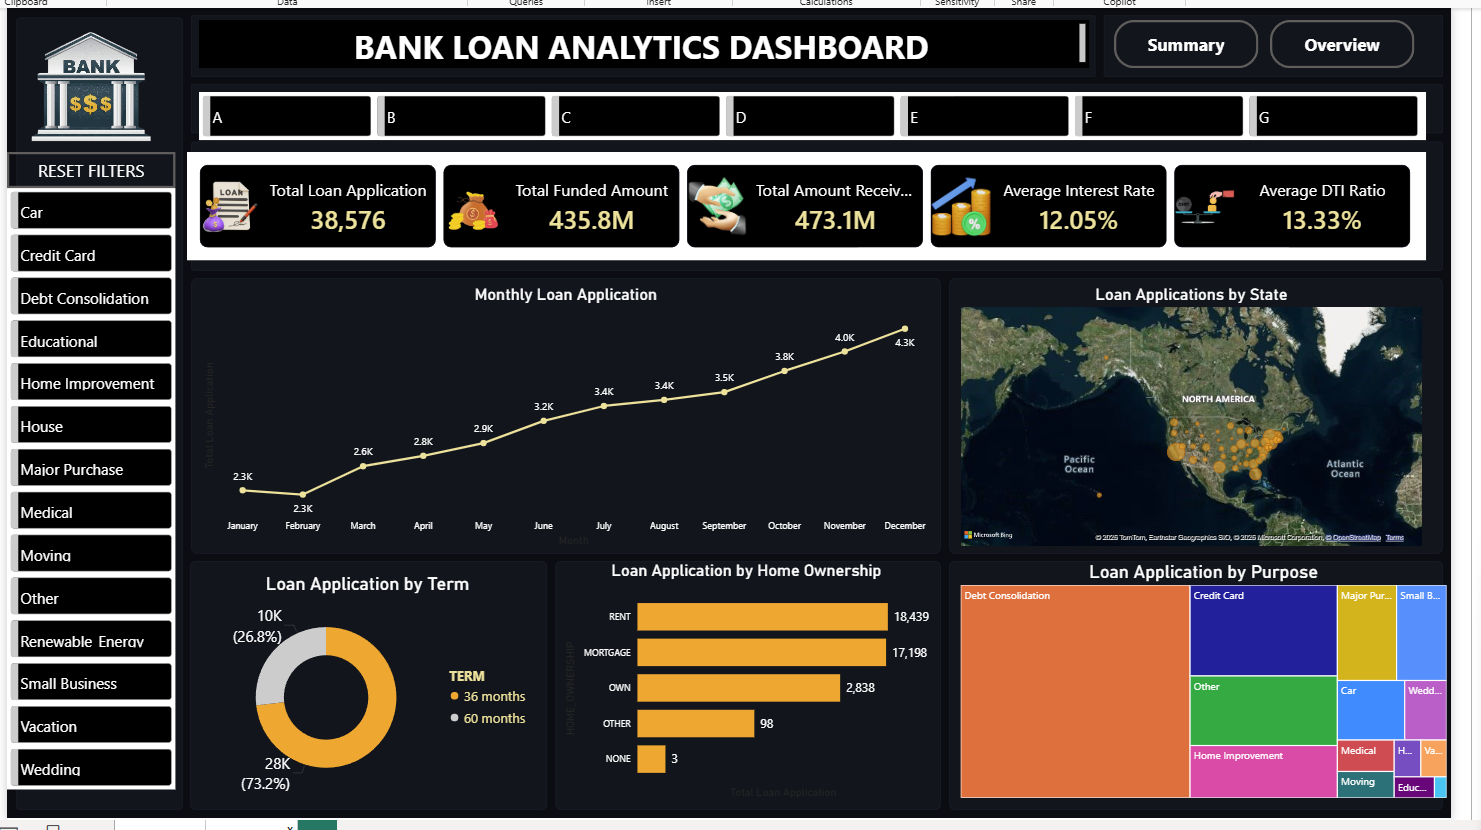

The dashboard page shown, as its layout file describes it:
{"tool":"powerbi","page":{"name":"Overview","canvas":[1920,1080],"ordinal":1},"visuals":[{"type":"cardVisual","fields":{"Data":["financial_loan.Total Loan Application","financial_loan.Total Funded Amount","financial_loan.Total Amount Received","financial_loan.Average Interest Rate","financial_loan.Average DTI Rate"]},"box":[240,192,1648,144],"z":0},{"type":"image","box":[0,0,224,208],"z":1000},{"type":"advancedSlicerVisual","fields":{"Values":["financial_loan.PURPOSE"]},"box":[0,240,224,800],"z":2000},{"type":"advancedSlicerVisual","fields":{"Values":["financial_loan.GRADE"]},"box":[256,112,1632,64],"z":3000},{"type":"actionButton","box":[0,192,224,48],"z":4000},{"type":"textbox","box":[256,16,1184,64],"z":5000},{"type":"pageNavigator","box":[688,576,400,48],"z":6000},{"type":"actionButton","box":[1472,16,192,64],"z":7000},{"type":"actionButton","box":[1680,16,192,64],"z":8000},{"type":"lineChart","title":"Monthly Loan Application","fields":{"Category":["financial_loan.ISSUE_DATE.Variation.Date Hierarchy.Month"],"Y":["financial_loan.Total Loan Application"]},"box":[256,368,976,352],"z":9000},{"type":"donutChart","title":"Loan Application by Term","fields":{"Category":["financial_loan.TERM"],"Y":["financial_loan.Total Loan Application"]},"box":[256,752,448,304],"z":10000},{"type":"clusteredBarChart","title":"Loan Application by Home Ownership","fields":{"Category":["financial_loan.HOME_OWNERSHIP"],"Y":["financial_loan.Total Loan Application"]},"box":[736,736,496,320],"z":11000},{"type":"treemap","title":"Loan Application by Purpose","fields":{"Details":["financial_loan.PURPOSE"],"Values":["financial_loan.Total Loan Application"]},"box":[1264,736,656,320],"z":12000},{"type":"map","title":"Loan Applications by State","fields":{"Category":["financial_loan.ADDRESS_STATE"],"Size":["financial_loan.Total Loan Application"]},"box":[1264,368,624,352],"z":13000}]}

Visuals, with their boxes on the page's 1920x1080 design canvas (x1, y1, x2, y2). These are canvas units, not pixel positions in the 1481x830 screenshot, which may show the page scaled, cropped or inside an application window:
cardVisual - financial_loan.Total Loan Application x financial_loan.Total Funded Amount: Rect(240, 192, 1888, 336)
image: Rect(0, 0, 224, 208)
advancedSlicerVisual - financial_loan.PURPOSE: Rect(0, 240, 224, 1040)
advancedSlicerVisual - financial_loan.GRADE: Rect(256, 112, 1888, 176)
actionButton: Rect(0, 192, 224, 240)
textbox: Rect(256, 16, 1440, 80)
pageNavigator: Rect(688, 576, 1088, 624)
actionButton: Rect(1472, 16, 1664, 80)
actionButton: Rect(1680, 16, 1872, 80)
"Monthly Loan Application" lineChart: Rect(256, 368, 1232, 720)
"Loan Application by Term" donutChart: Rect(256, 752, 704, 1056)
"Loan Application by Home Ownership" clusteredBarChart: Rect(736, 736, 1232, 1056)
"Loan Application by Purpose" treemap: Rect(1264, 736, 1920, 1056)
"Loan Applications by State" map: Rect(1264, 368, 1888, 720)
